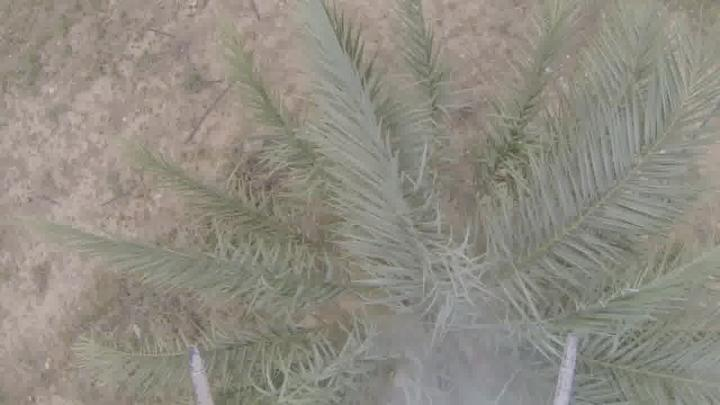Date-Palm-Crown: (240, 61, 664, 405)
